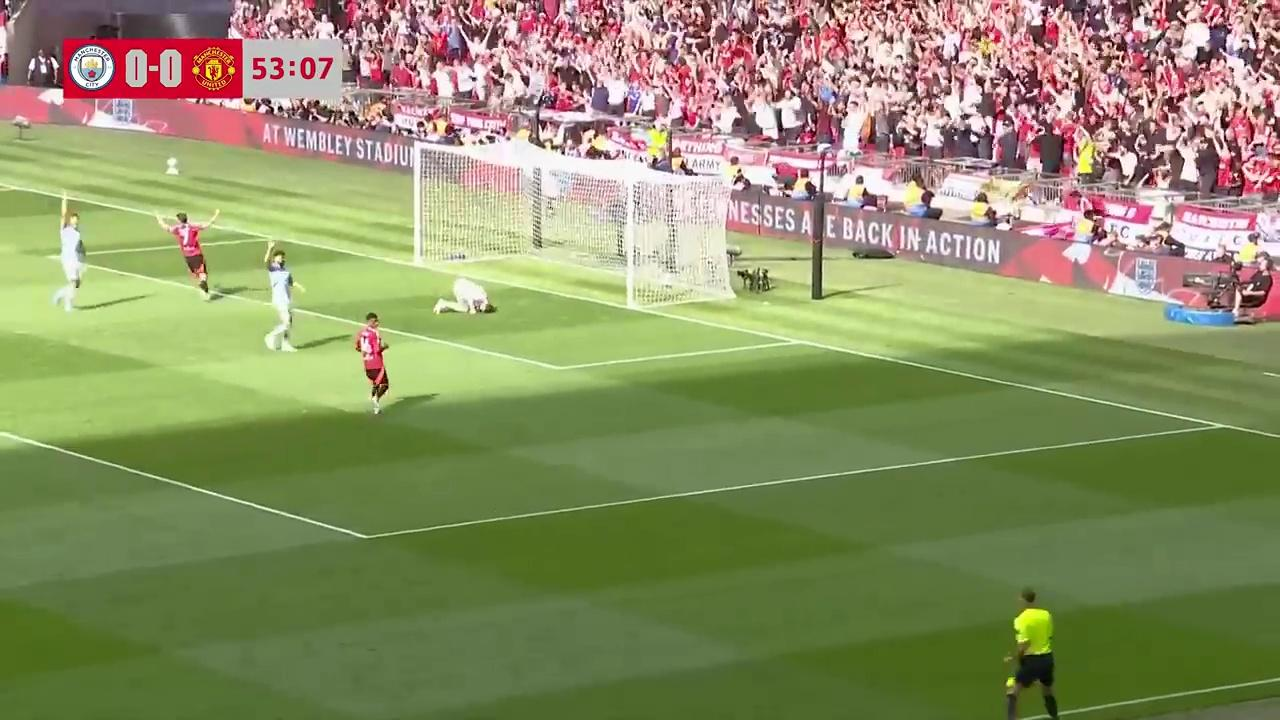player: (158, 213, 214, 300), (355, 312, 390, 415), (265, 252, 297, 351), (56, 214, 86, 311), (435, 275, 496, 316)
referee: (1004, 589, 1060, 720)
